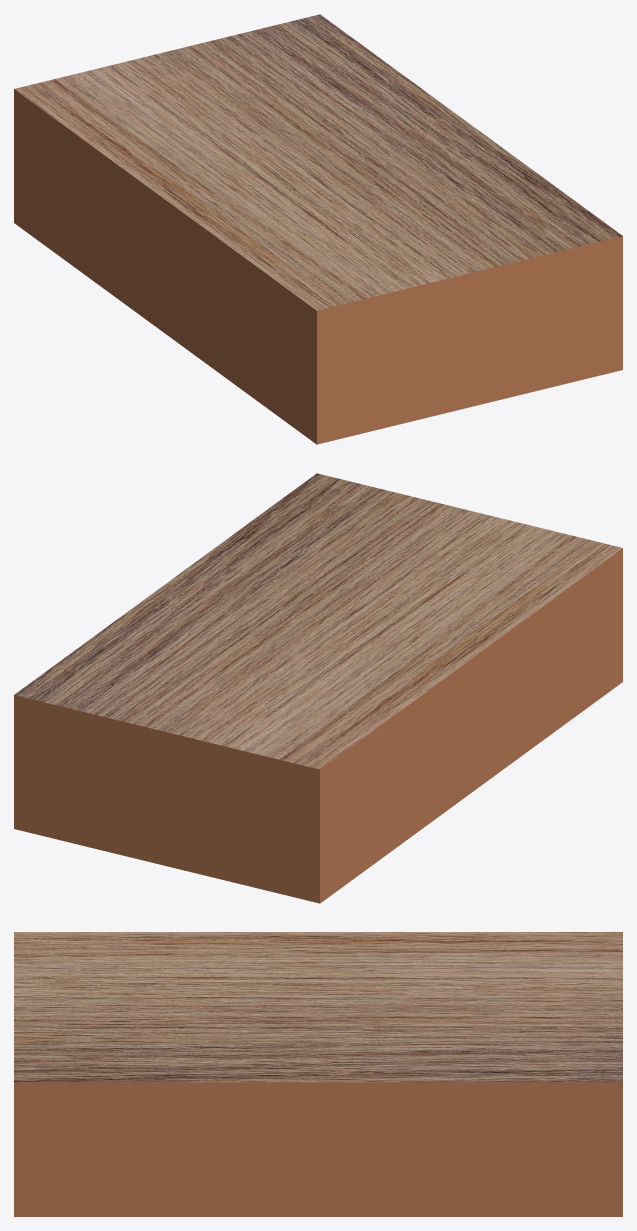
The picture shows the model from 3 angles, top to bottom: view 1: azimuth 30°, elevation 25°; view 2: azimuth 150°, elevation 25°; view 3: azimuth 270°, elevation 25°; orthographic projection.
Parts seen in each view (by area): view 1: Cube.005; view 2: Cube.005; view 3: Cube.005.
Boxes of the visible parts, <box> form: Cube.005: <box>14,14,622,444</box>; Cube.005: <box>14,473,622,903</box>; Cube.005: <box>14,932,622,1216</box>.
Bounding box in the file's own units: 0.8121 × 0.3397 × 1.39.
2 materials, 1 textured.
